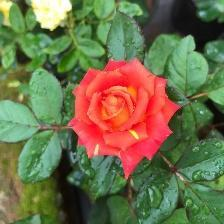rose: (68, 57, 183, 181)
